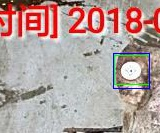text: (114, 55, 149, 84)
